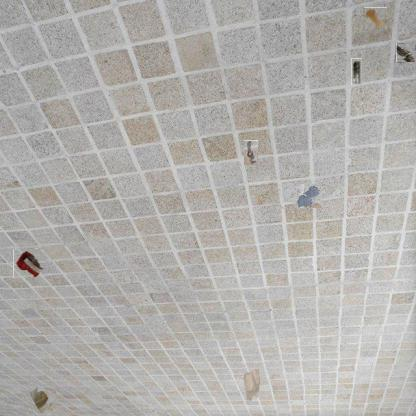dirty: (13, 248, 46, 278), (29, 384, 56, 416), (242, 367, 262, 403), (396, 43, 415, 62), (244, 140, 258, 165), (351, 58, 362, 85)
liquid: (295, 184, 321, 208), (364, 7, 388, 30)
